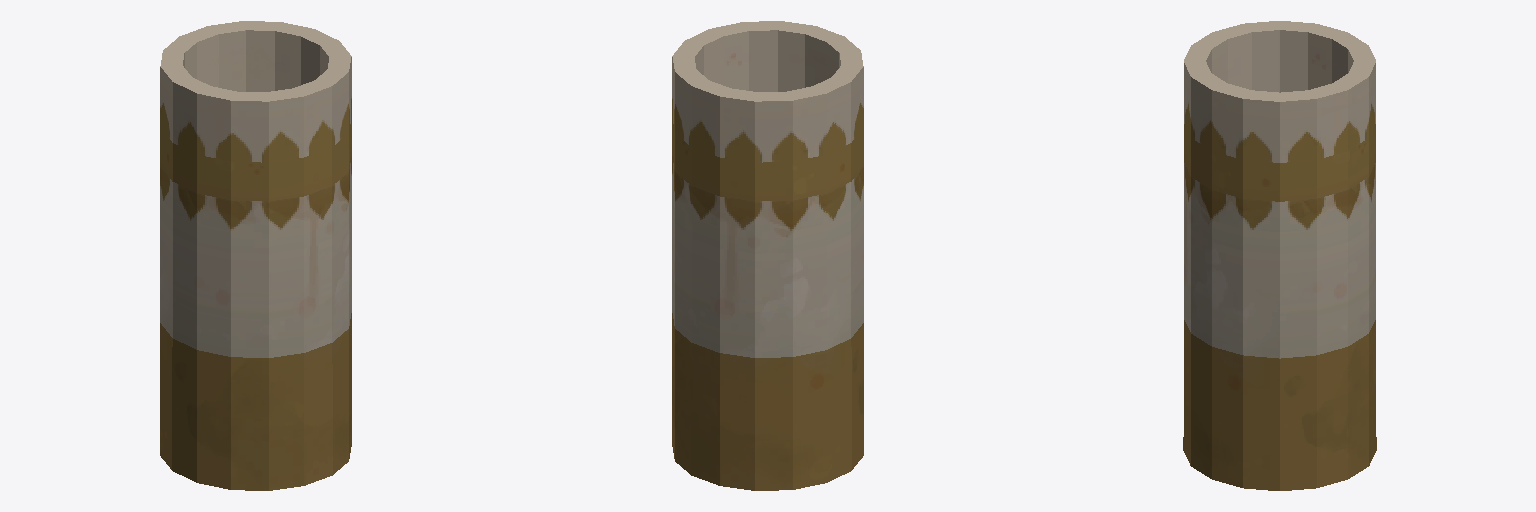
The picture shows the model from 3 angles: view 1: azimuth 30°, elevation 25°; view 2: azimuth 150°, elevation 25°; view 3: azimuth 270°, elevation 25°; orthographic projection.
Visible parts, largest first — view 1: Candle_CandleMesh; view 2: Candle_CandleMesh; view 3: Candle_CandleMesh.
Boxes of the visible parts, x1,y1,x2,y2 form: Candle_CandleMesh: [160, 21, 351, 490]; Candle_CandleMesh: [672, 21, 863, 490]; Candle_CandleMesh: [1183, 21, 1376, 490].
Bounding box in the file's own units: 0.2015 × 0.4484 × 0.2015.
Materials: 1 (1 with a texture image).